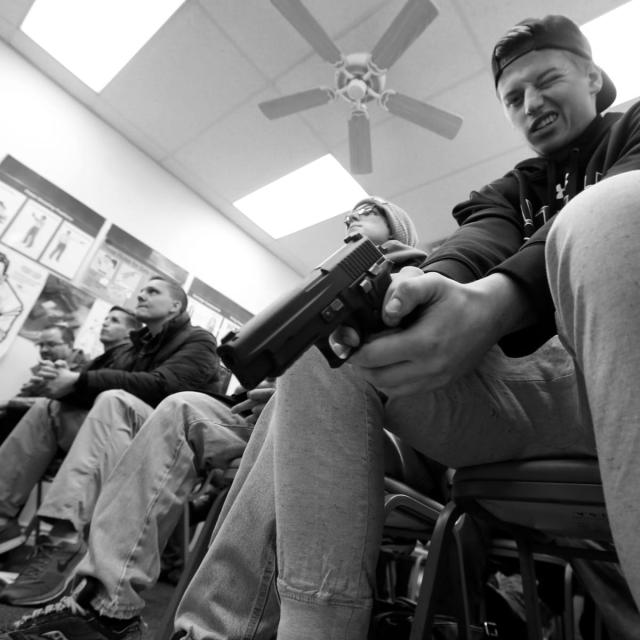gun: (218, 235, 425, 391)
